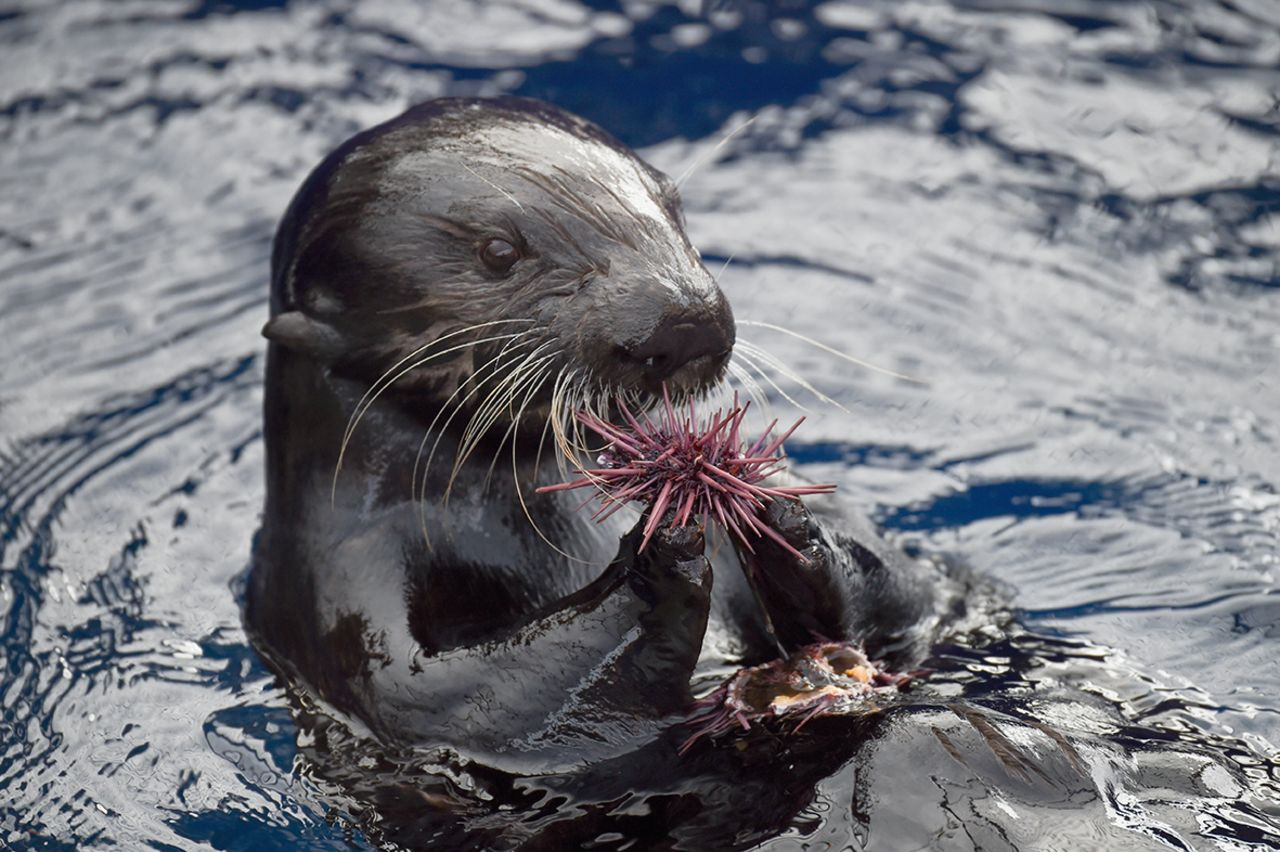otter: (160, 20, 957, 743)
